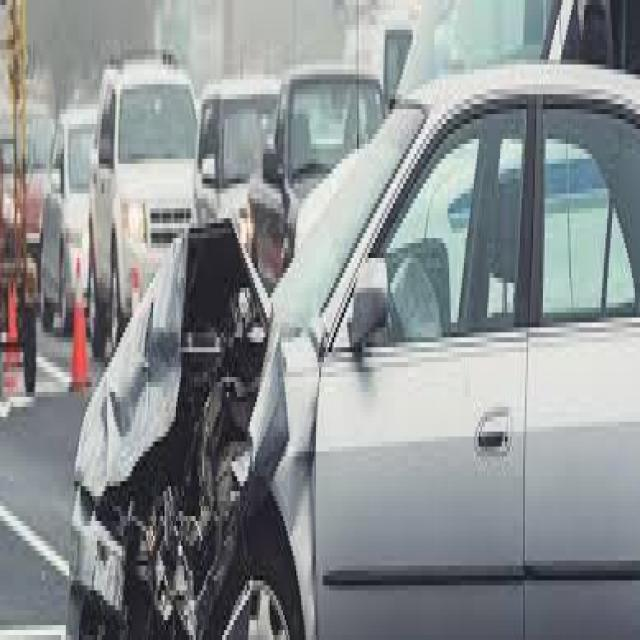moderate: (75, 157, 358, 640)
